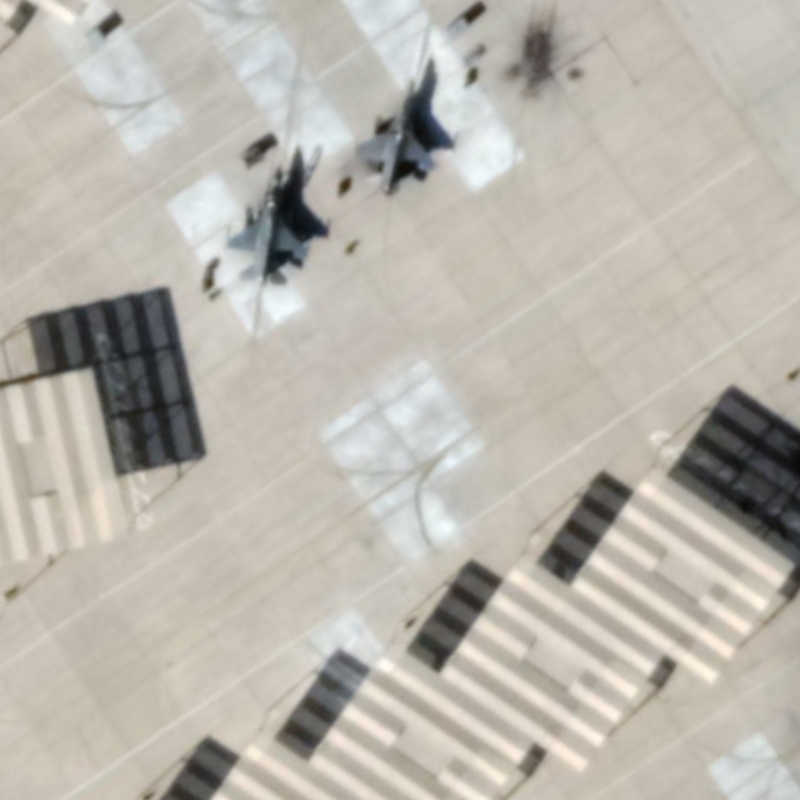A5: (218, 161, 311, 292), (339, 75, 438, 197)
